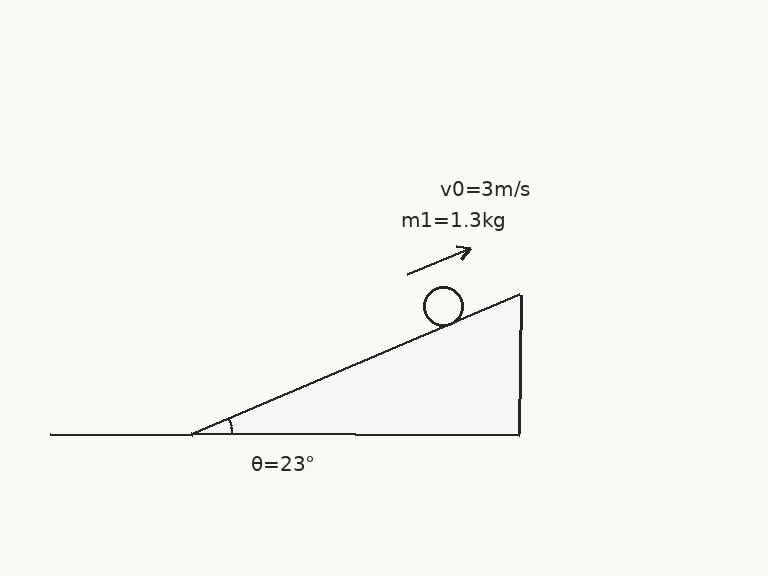ball: (421, 284, 465, 328)
ramp: (190, 293, 522, 436)
